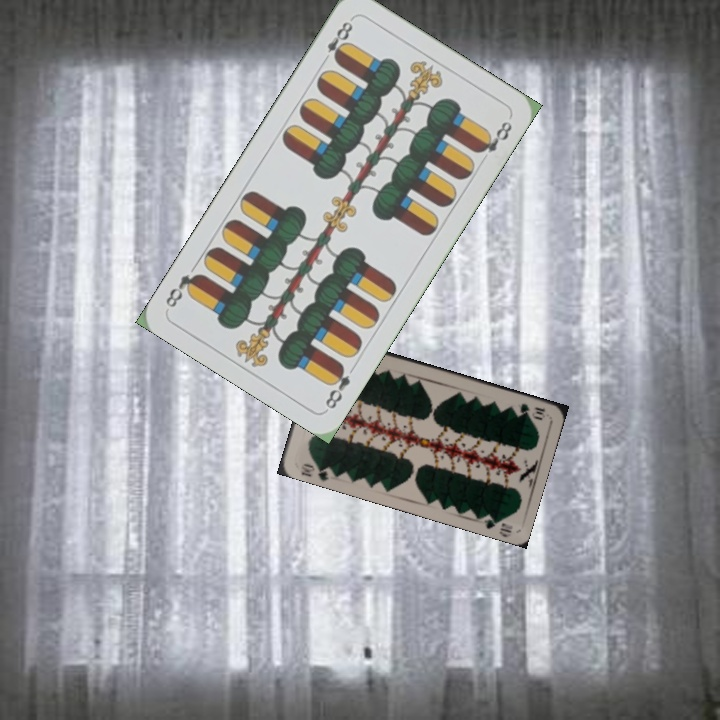E8: (317, 15, 356, 67), (321, 359, 353, 412)
G10: (297, 459, 335, 483), (516, 399, 547, 422)
